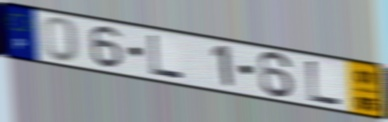0: (42, 16, 81, 64)
1: (210, 44, 235, 91)
6: (88, 24, 126, 71), (257, 51, 294, 99)
L: (305, 58, 344, 108), (147, 33, 185, 81)
